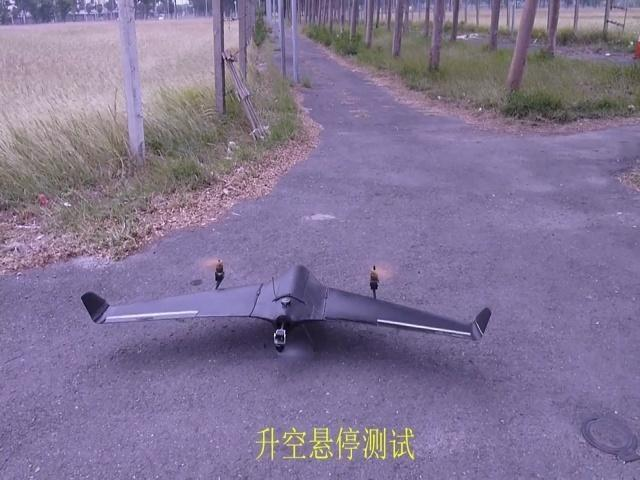Airplane: (80, 256, 492, 357)
